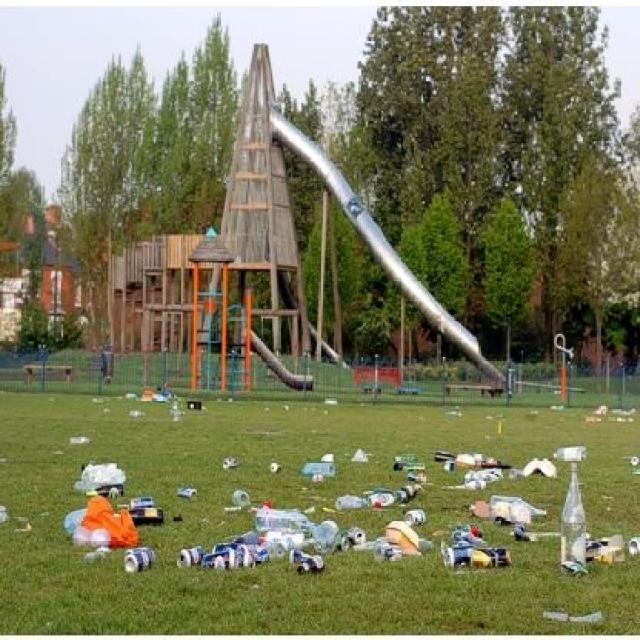garbage: (68, 439, 636, 626), (443, 400, 637, 440), (212, 394, 376, 428), (89, 385, 206, 422), (0, 451, 17, 548)
